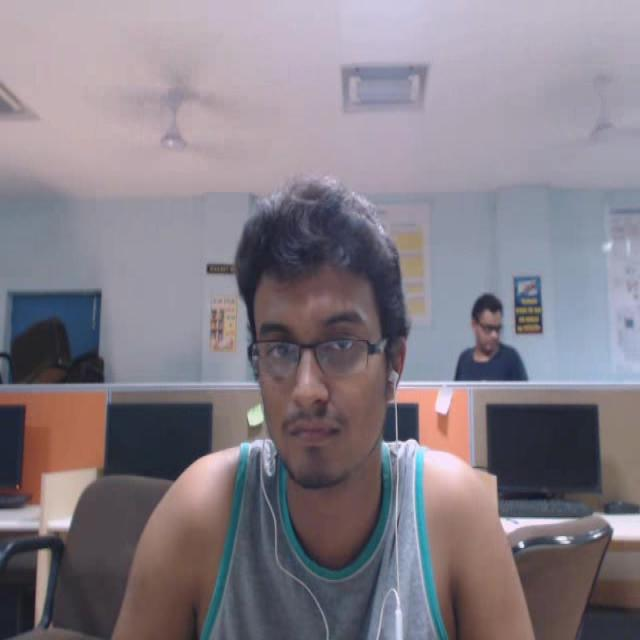Engaged: (231, 171, 425, 503)
